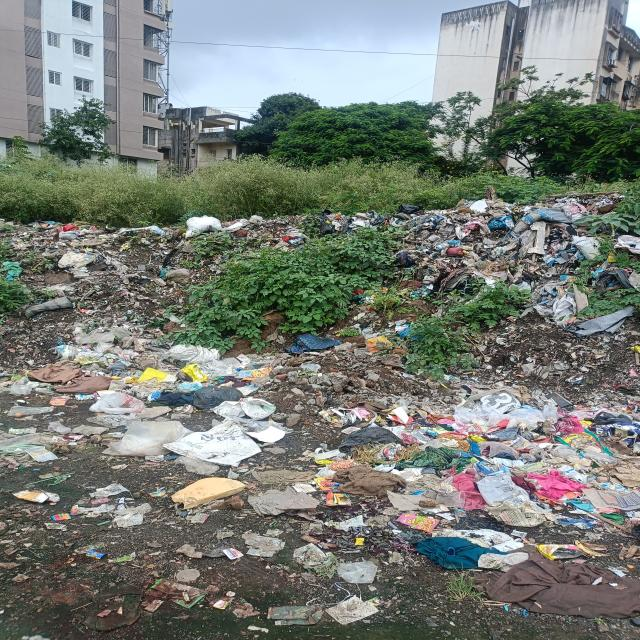garbage: (398, 200, 640, 613), (1, 218, 221, 532), (225, 309, 394, 626), (226, 212, 394, 252)
